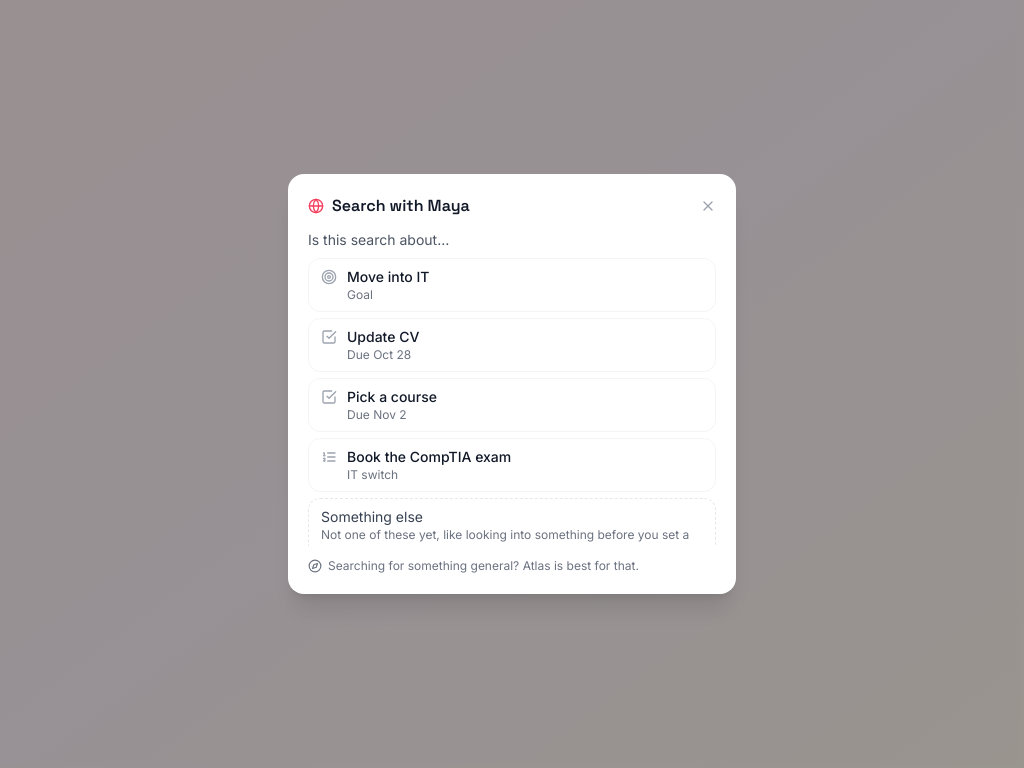
HelperSearchSheet › lets them search for something else, and points general searches to Atlas
Later steps or results of the test are not shown.
Click the button "Something else": (512, 533) [308, 498, 716, 568]
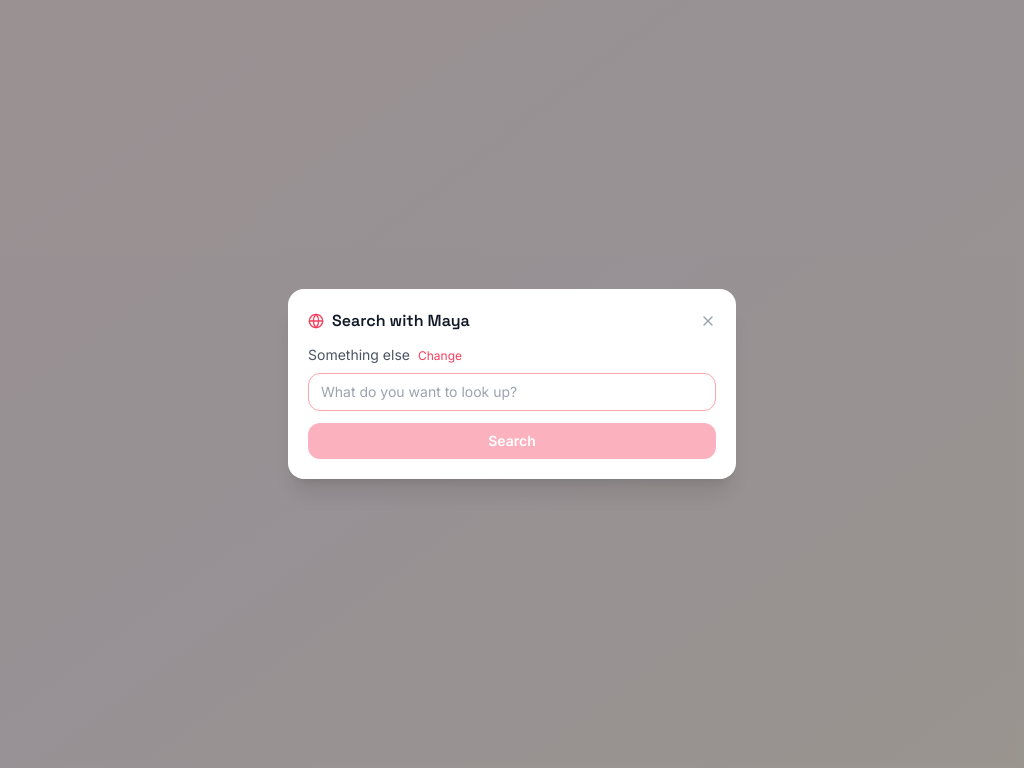
Result: the button "Search" is disabled at [308, 423, 716, 459]
